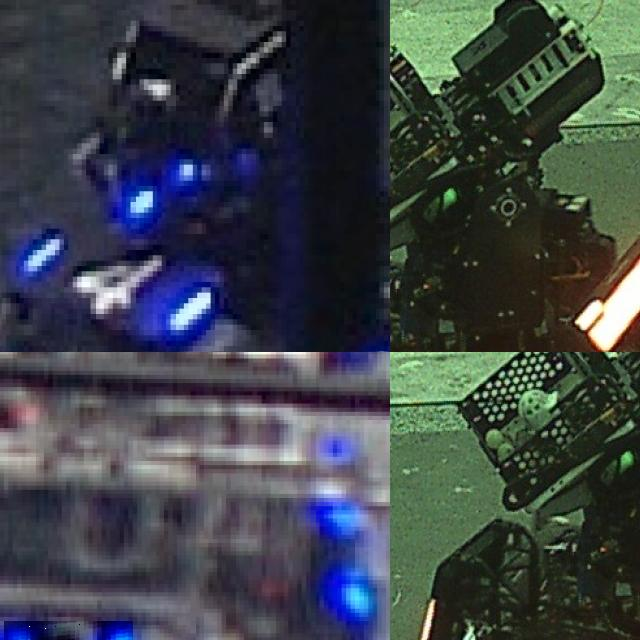B2: (4, 621, 133, 640)
